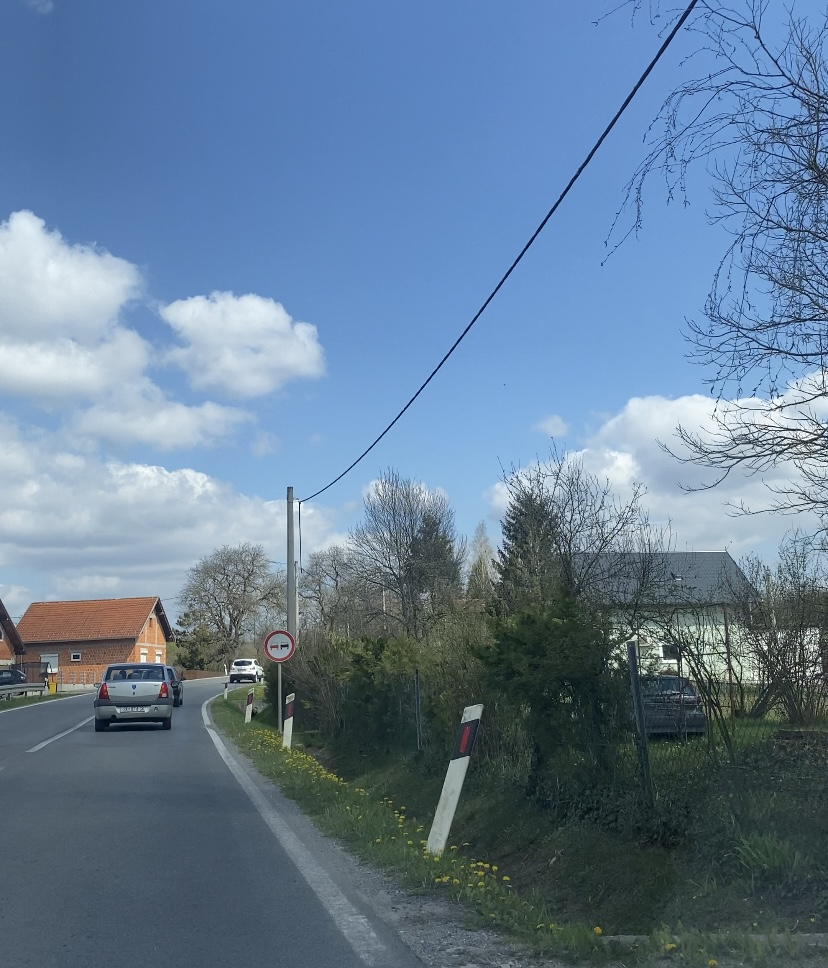Zabrana pretjecanja: (264, 630, 295, 662)
